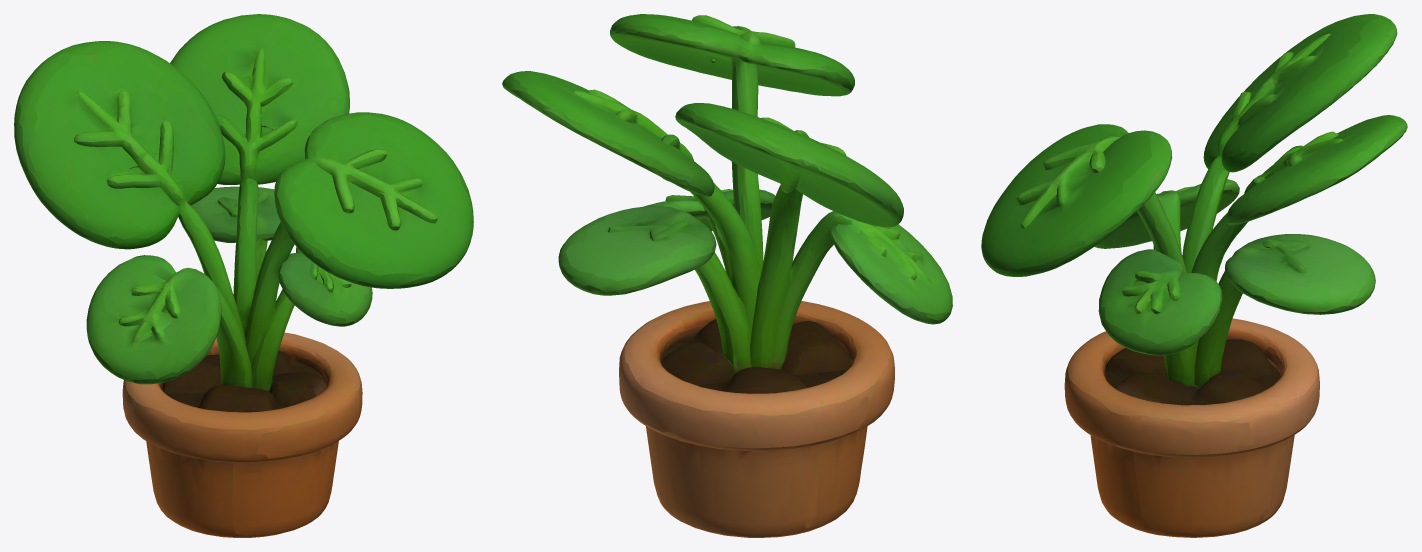
File: x-plant.glb
3 renders of one model, left to right at view 1: azimuth 30°, elevation 25°; view 2: azimuth 150°, elevation 25°; view 3: azimuth 270°, elevation 25°, orthographic. The views are drawn at different scales.
Parts seen in each view (by area): view 1: geometry_0; view 2: geometry_0; view 3: geometry_0.
Part boxes in pixels (left/top/right/bottom): geometry_0: left=14, top=14, right=473, bottom=537; geometry_0: left=502, top=14, right=952, bottom=537; geometry_0: left=981, top=14, right=1407, bottom=537.
Size of the model in its own units: 0.1872 by 0.22 by 0.1932.
Materials: 1 (1 with a texture image).
